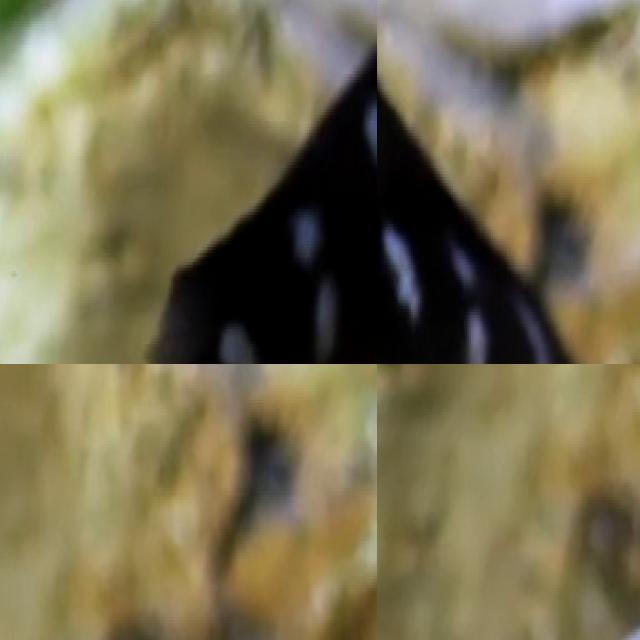fish: (0, 0, 377, 364), (502, 576, 640, 640)
